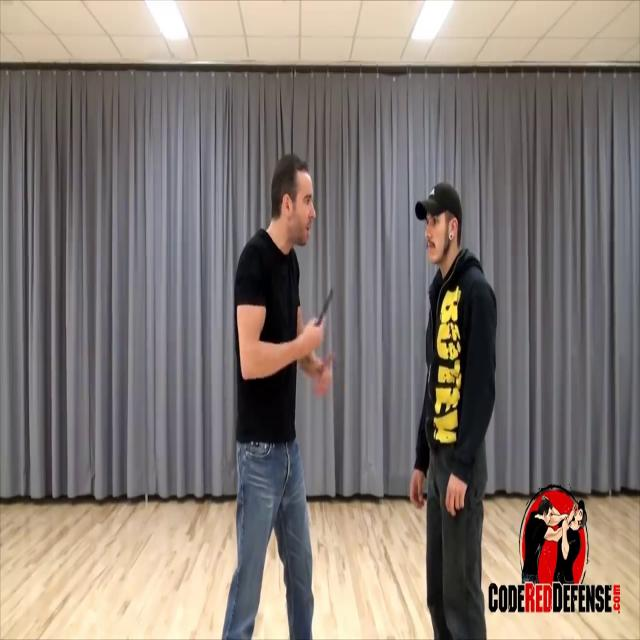Knife_Handle: (304, 288, 334, 352)
